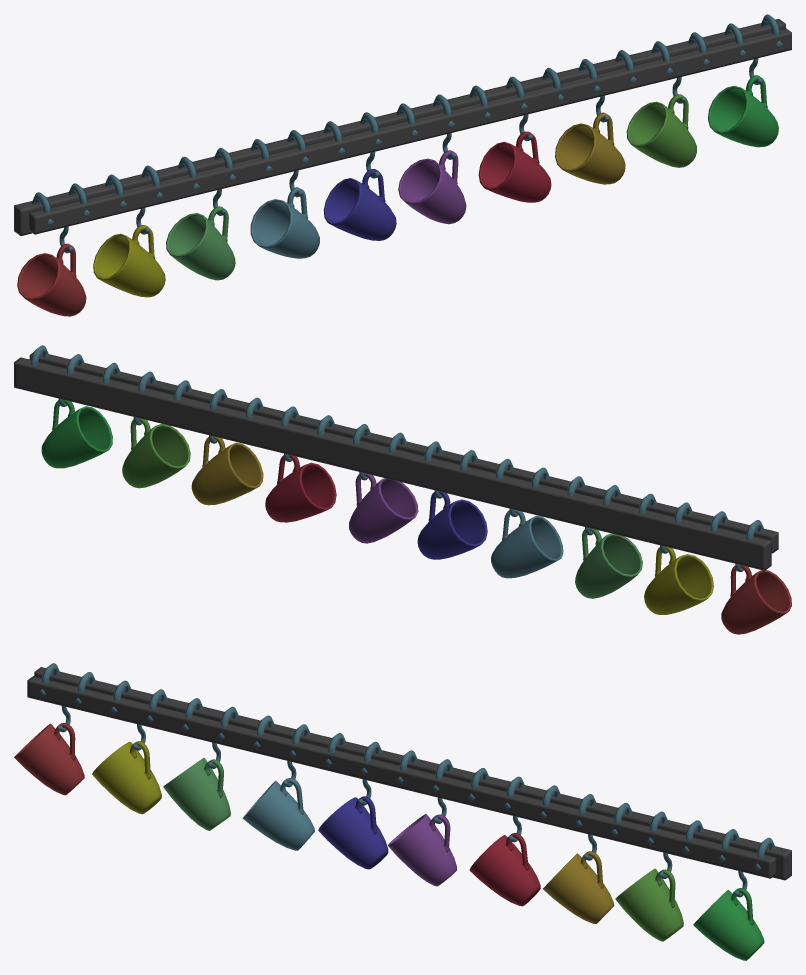
Rendered from set_4.obj.
3 views of the same model, one above another, from view 1: azimuth 30°, elevation 25°; view 2: azimuth 150°, elevation 25°; view 3: azimuth 330°, elevation 25° (orthographic).
Visible parts, largest first — view 1: set_4; view 2: set_4; view 3: set_4.
Boxes of the visible parts, x1,y1,x2,y2 form: set_4: (14, 14, 791, 316); set_4: (14, 345, 791, 634); set_4: (14, 663, 791, 960).
Bounding box in the file's own units: 181 × 27.53 × 12.2.
